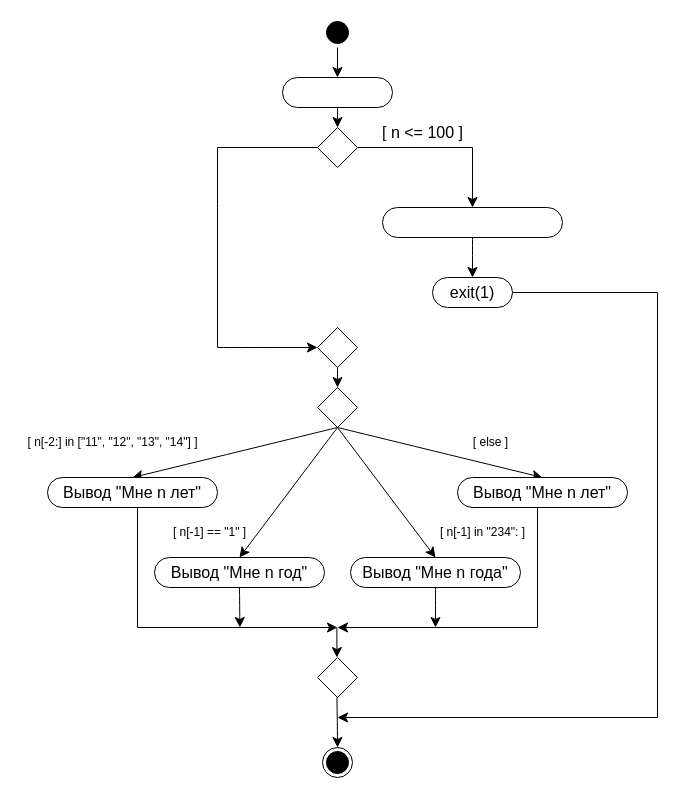
Image size: 685x795. Some labels were removed from this diagram. Here are the shapes that lost their labels. From the top down, the centre of each, then its label:
(x=337, y=92): Ввод n
(x=472, y=222): Вывод "Ошибка"
